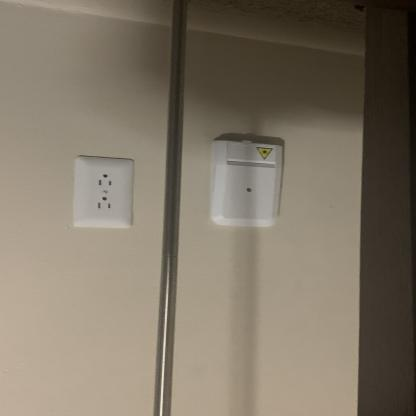OUTLET: (73, 160, 133, 228)
